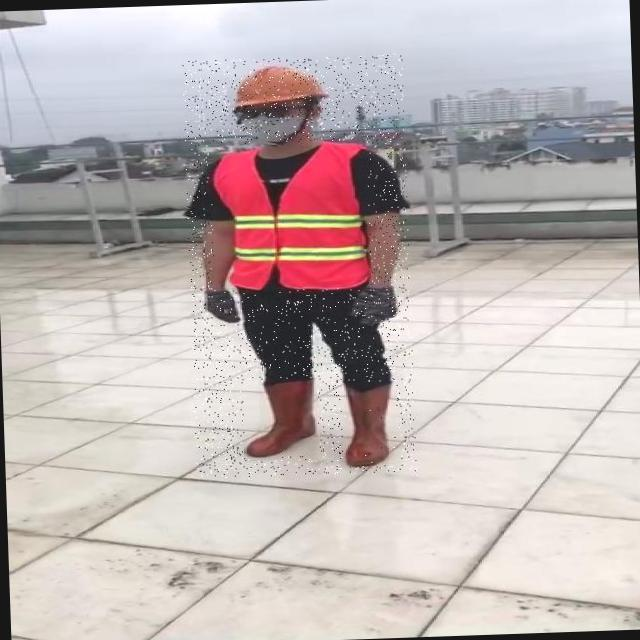boots: (242, 377, 320, 458), (340, 381, 400, 466)
helmet: (221, 59, 330, 108)
vest: (210, 140, 371, 292)
